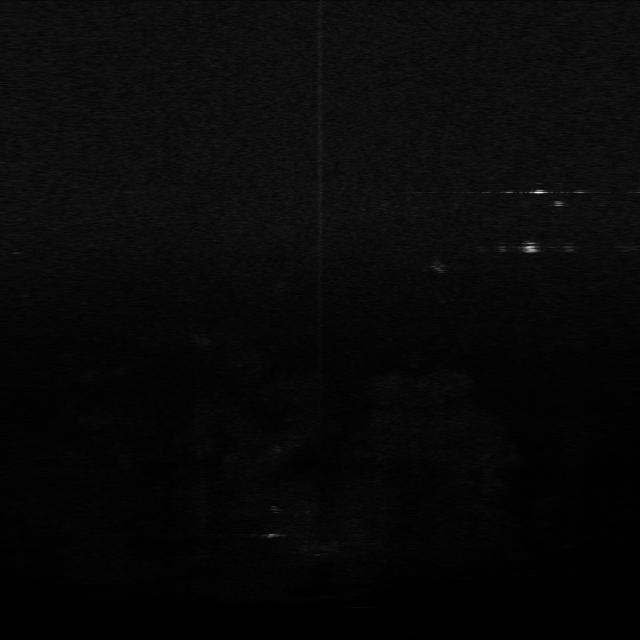rov: (517, 240, 547, 258)
